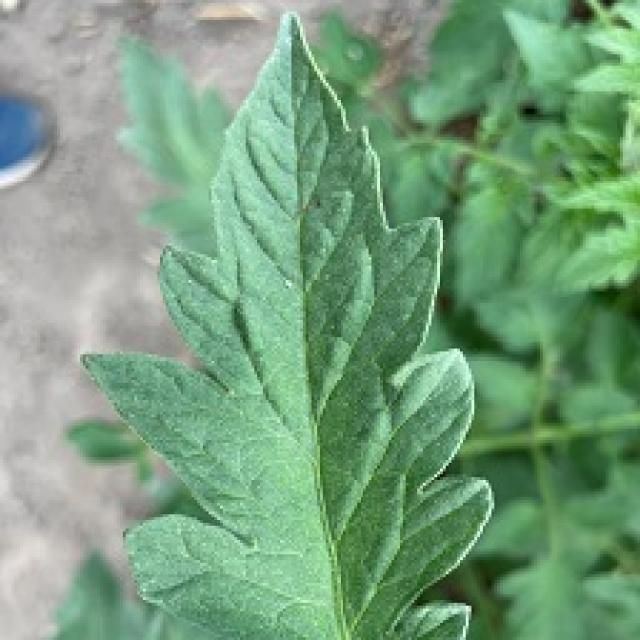Healthy: (26, 0, 523, 640)
